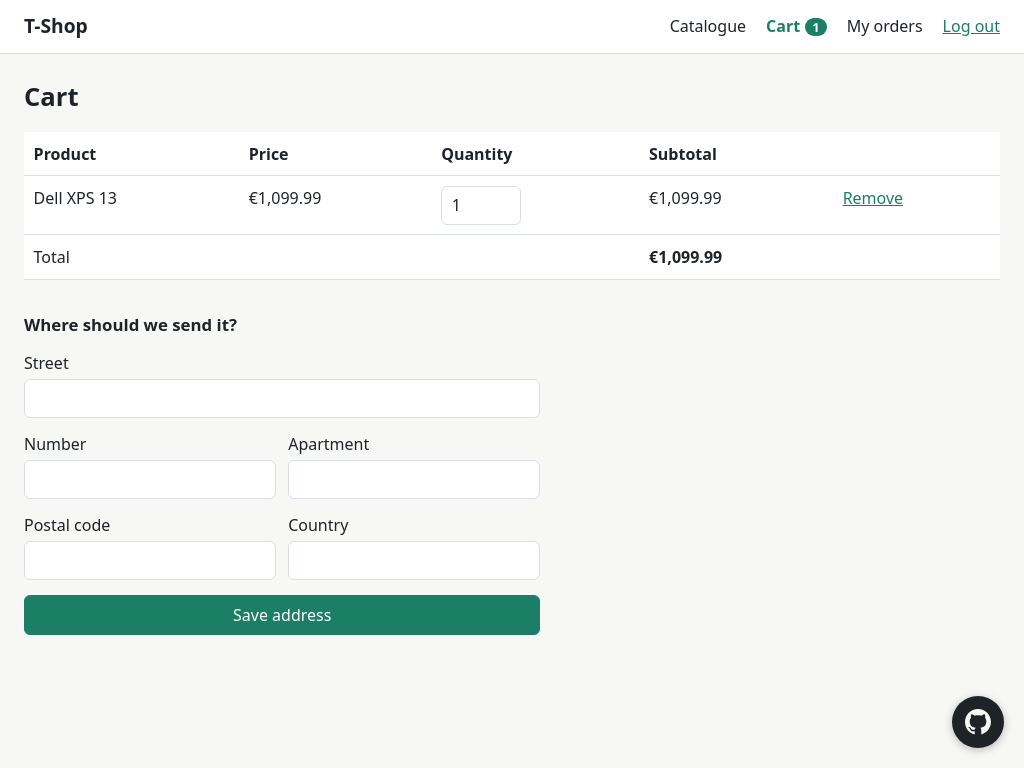
Test case: App › sends a rejected quantity only once
Step 1. Replace the text in the number field named "Quantity of Dell XPS 13" with "50" → {"x": 481, "y": 205}, box [441, 186, 521, 225]
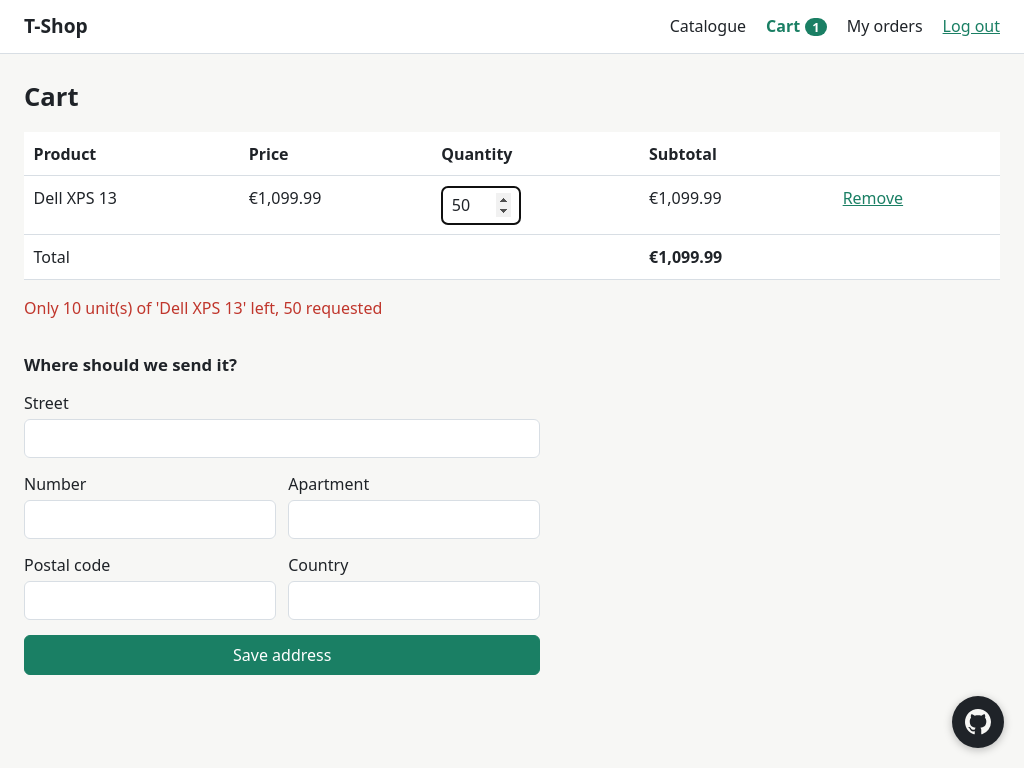
Now the text "Only 10 unit(s) of 'Dell XPS 13' left, 50 requested" is shown, box [24, 296, 382, 318]
